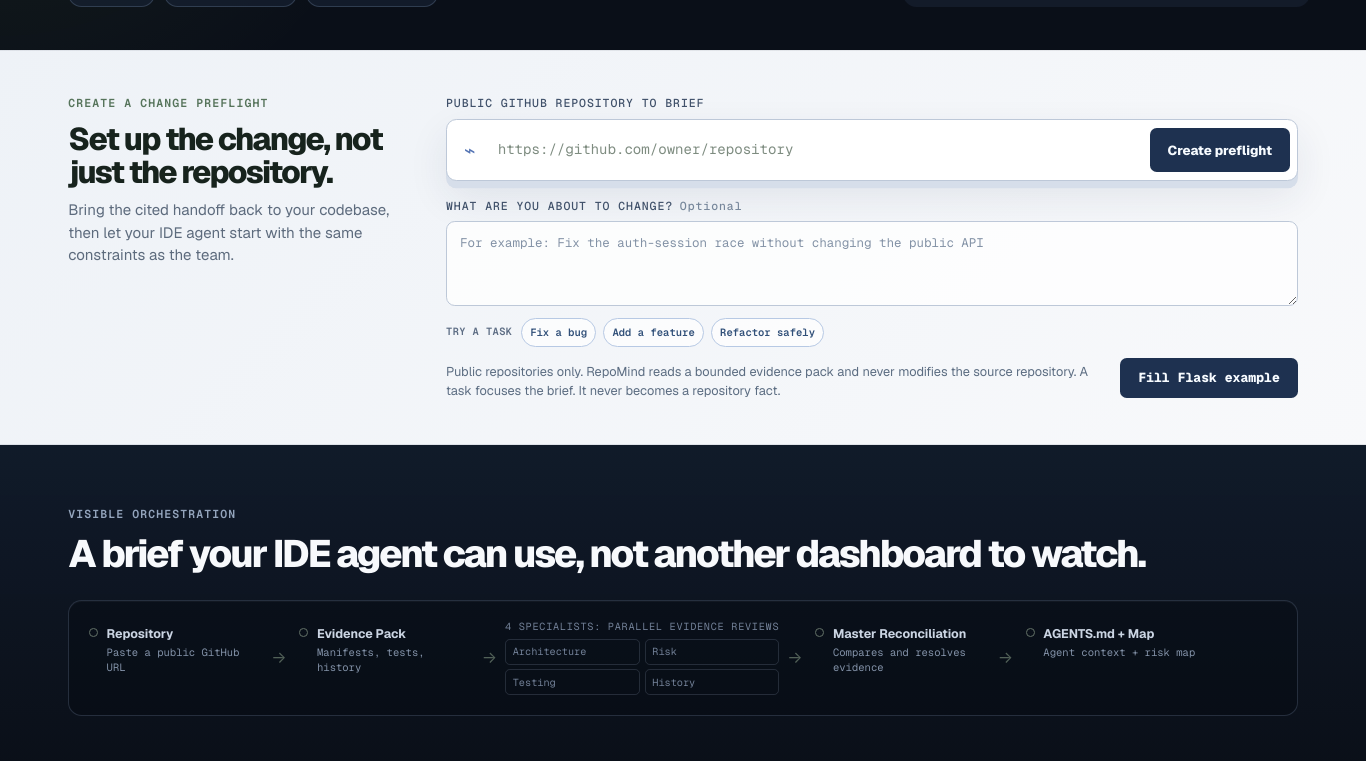
Test: RepoMindApp › offers a task-aware demo starting point
(page scrolled)
Click the button "Fill Flask example" at (1209, 378), box 1120,358 -> 1298,398
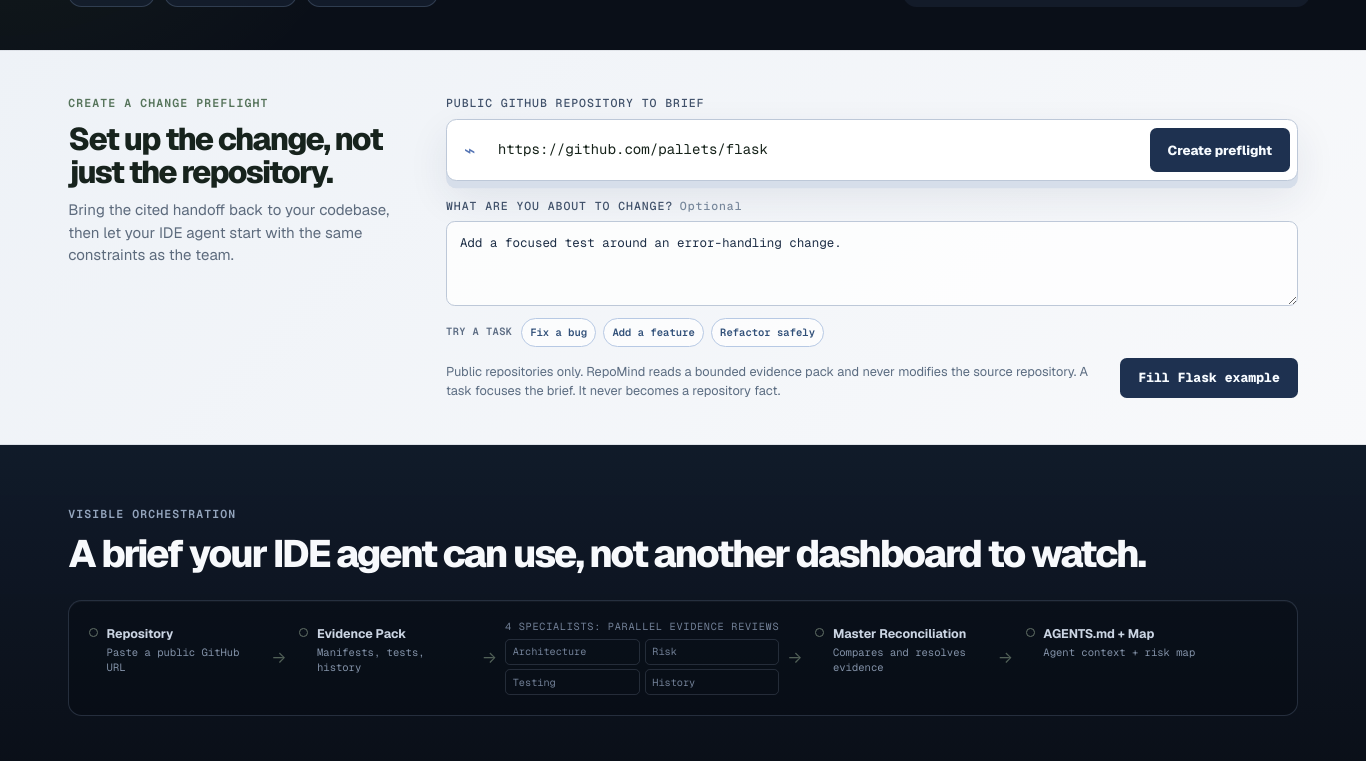
Expected: the field labelled "Public GitHub repository to brief" holds "https://github.com/pallets/flask", 494,127 -> 1142,173
Expected: the text box labelled "What are you about to change? Optional" holds "Add a focused test around an error-handling change.", 446,221 -> 1298,306
